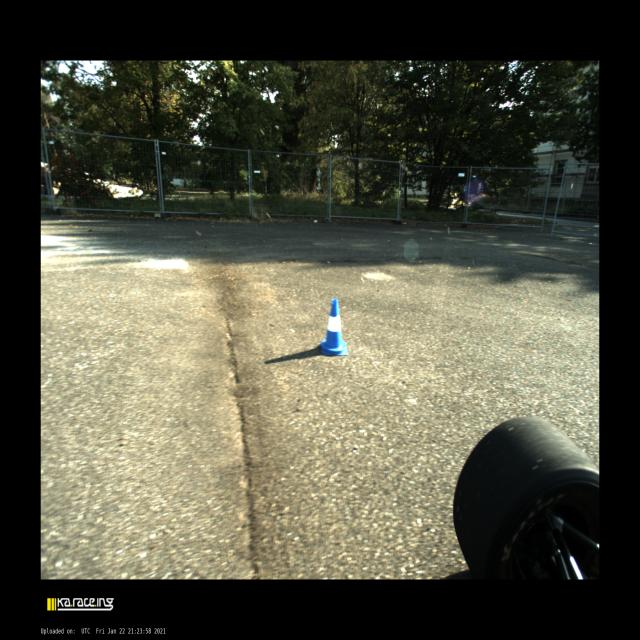blue_cone: (321, 298, 348, 354)
